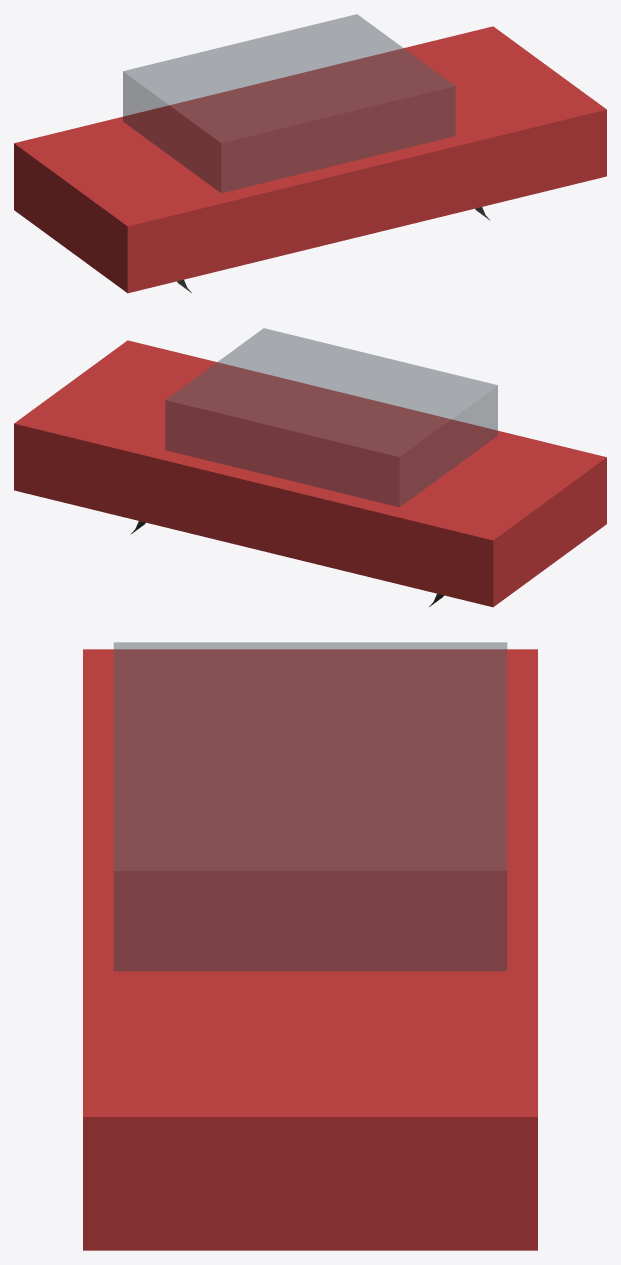
The model's file is w1-test-car-draco.glb.
The picture shows the model from 3 angles, top to bottom: view 1: azimuth 30°, elevation 25°; view 2: azimuth 150°, elevation 25°; view 3: azimuth 270°, elevation 25°; orthographic projection. The views are drawn at different scales.
Parts seen in each view (by area): view 1: Body_Main, Cabin; view 2: Body_Main, Cabin; view 3: Body_Main, Cabin.
Boxes of the visible parts, x1=… form: Body_Main: x1=14, y1=26, x2=606, y2=293; Cabin: x1=123, y1=14, x2=455, y2=193; Body_Main: x1=14, y1=340, x2=606, y2=607; Cabin: x1=165, y1=328, x2=497, y2=507; Body_Main: x1=83, y1=649, x2=537, y2=1250; Cabin: x1=113, y1=642, x2=507, y2=971.
Size of what is drawn, in the model's own units: 450 by 132 by 185.
